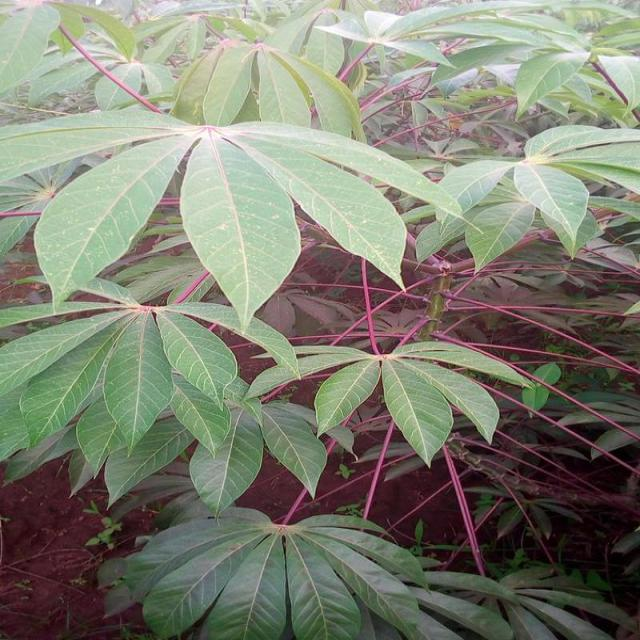cassava leaf: (0, 1, 638, 638), (32, 129, 186, 313), (178, 130, 301, 332)
